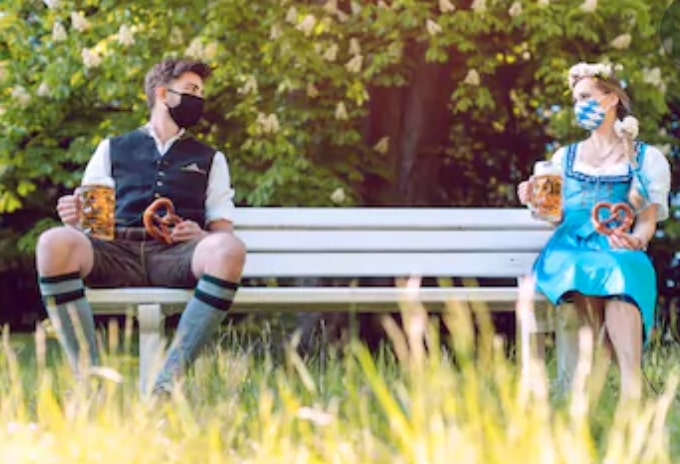Good: (35, 56, 669, 393)
